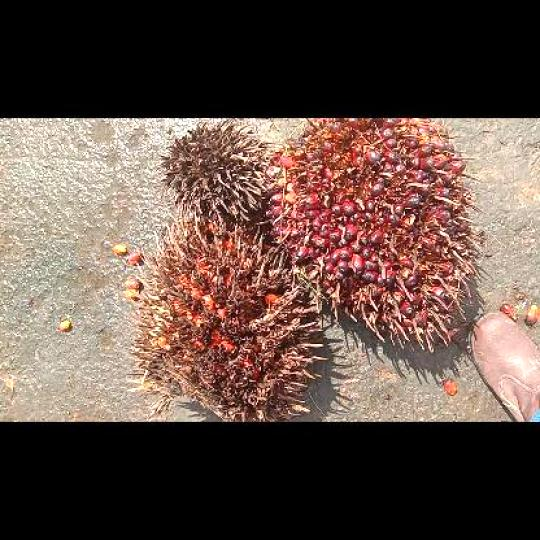masak: (264, 118, 481, 352)
terlalu masak: (121, 213, 328, 420)
